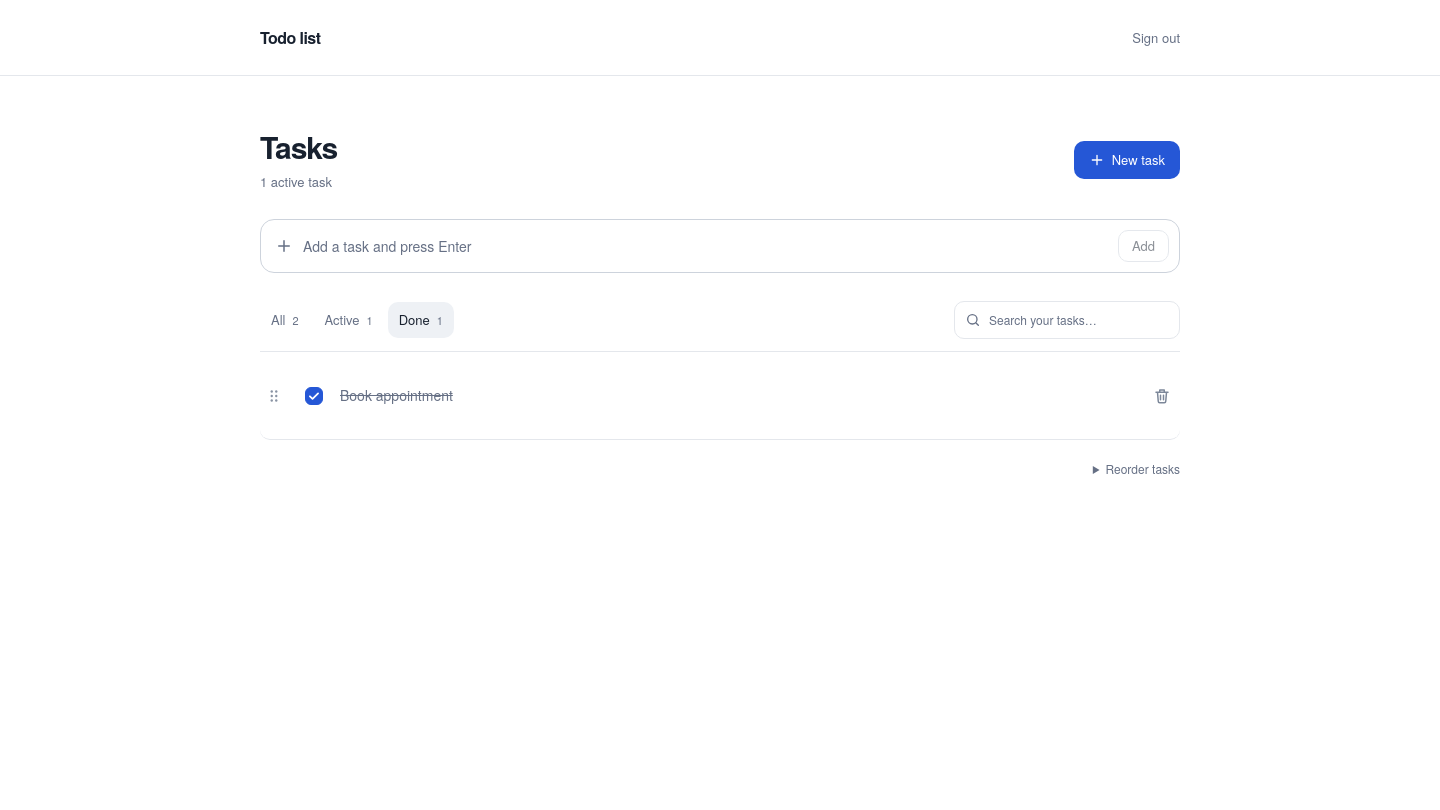
task list › allows dismissing a hidden-task confirmation
Expected: the text "Book appointment" is shown, [340,385,453,405]
Type "Buy milk" into the field named "New task title".
click(706, 246); type("Buy milk")  # box [303,230,1108,262]
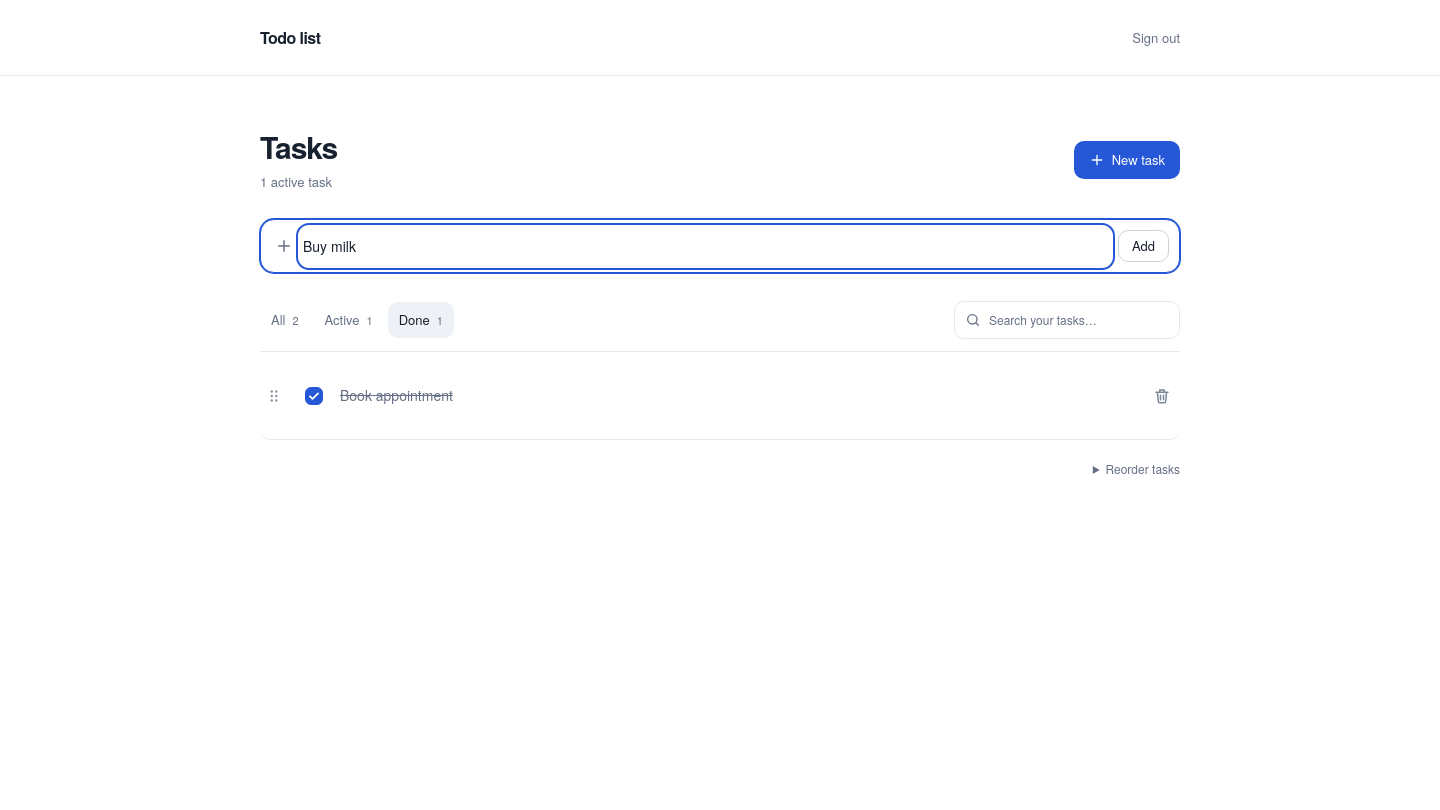
Click the button "Add".
click(1144, 246)  # box [1118,230,1169,262]
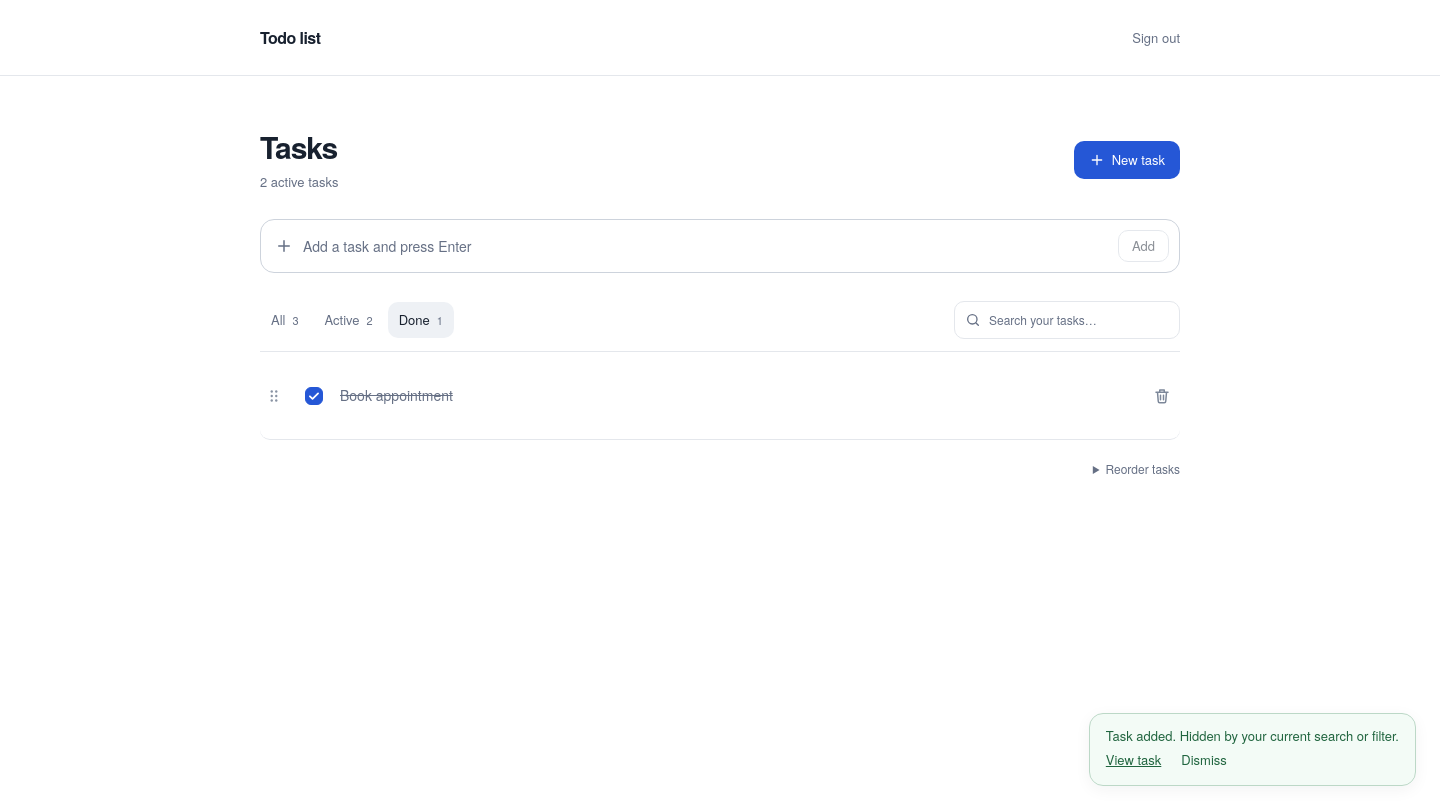
Click the button with aria-label "Dismiss notification".
click(1204, 759)  # box [1177,746,1231,773]
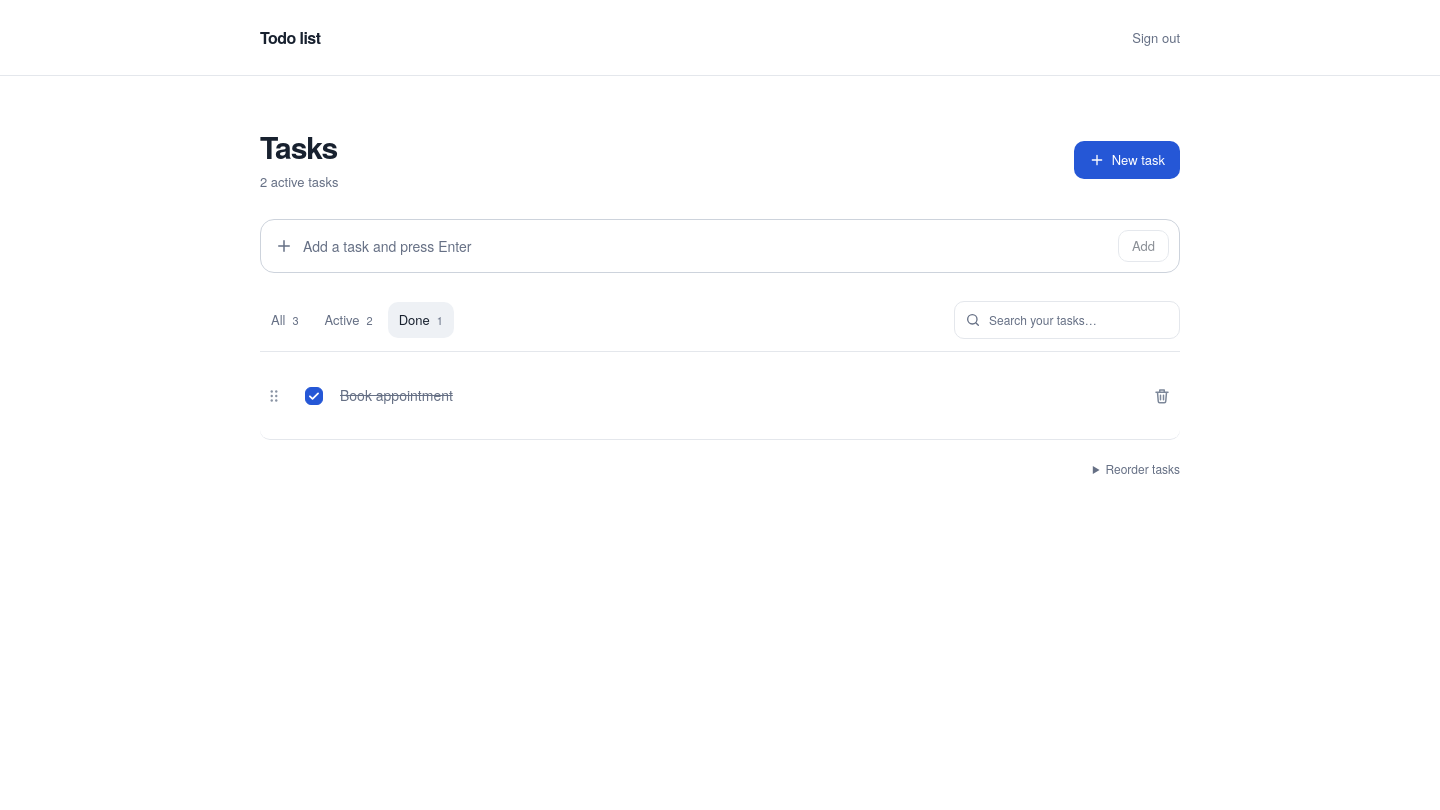
Expected: the link "View task" is gone
